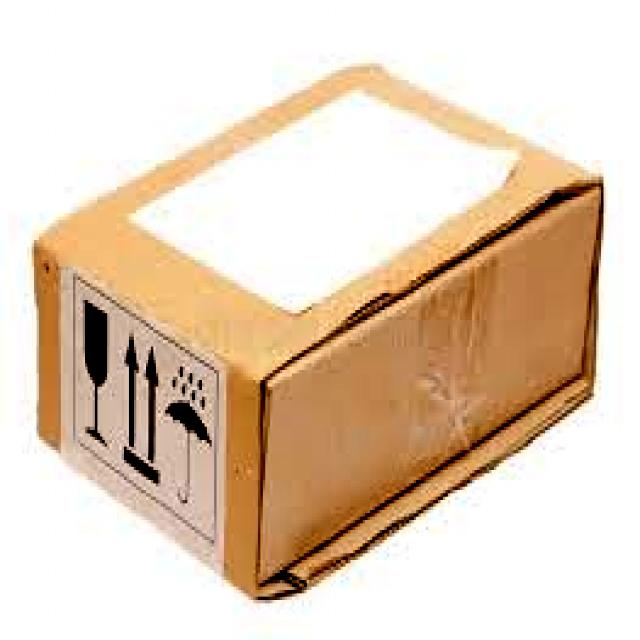Cardboard: (24, 48, 611, 623)
